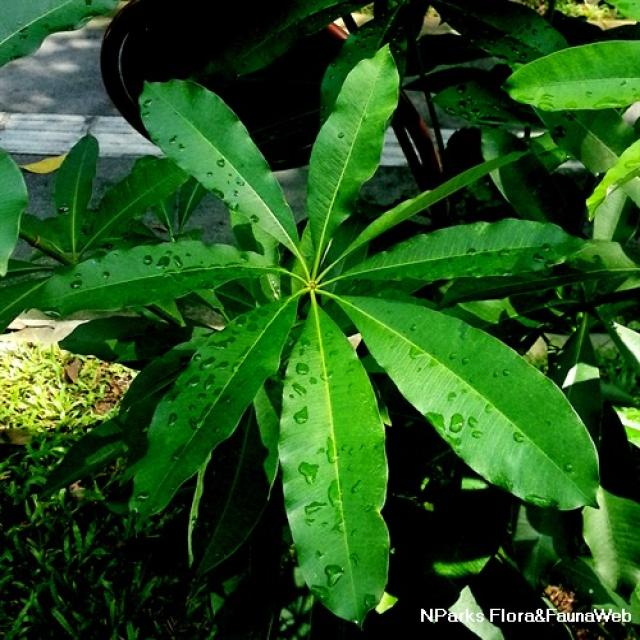Indian Pulai: (23, 86, 640, 640)
